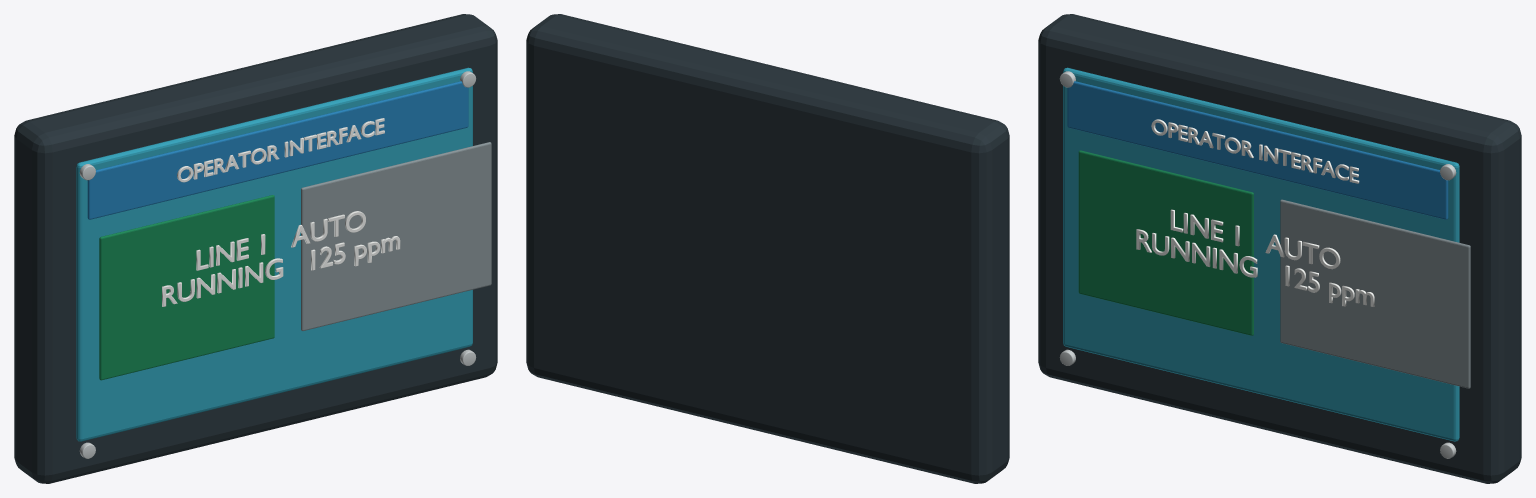
File: industrial_hmi.glb
3 views of the same model, side by side, from view 1: azimuth 30°, elevation 25°; view 2: azimuth 150°, elevation 25°; view 3: azimuth 330°, elevation 25° (orthographic).
Parts seen in each view (by area): view 1: HMI_BEZEL, TOUCHSCREEN, UI_ALARMS, UI_PROCESS, UI_HEADER, HMI_SCREEN, HMI_HEADER; view 2: HMI_BEZEL; view 3: HMI_BEZEL, TOUCHSCREEN, UI_ALARMS, UI_PROCESS, UI_HEADER, HMI_SCREEN, HMI_HEADER.
Part boxes in pixels (x1,y1,x2,y2): HMI_BEZEL: (14,14,497,483); TOUCHSCREEN: (76,67,472,441); UI_ALARMS: (301,142,491,330); UI_PROCESS: (99,195,274,380); UI_HEADER: (87,81,468,219); HMI_SCREEN: (162,211,400,306); HMI_HEADER: (177,118,384,182); HMI_BEZEL: (526,14,1009,483); HMI_BEZEL: (1038,14,1521,483); TOUCHSCREEN: (1063,67,1459,441); UI_ALARMS: (1280,199,1470,388); UI_PROCESS: (1078,150,1253,335); UI_HEADER: (1067,81,1448,219); HMI_SCREEN: (1136,209,1374,306); HMI_HEADER: (1151,119,1359,183).
Size of the model in its own units: 1.22 by 0.88 by 0.186.
